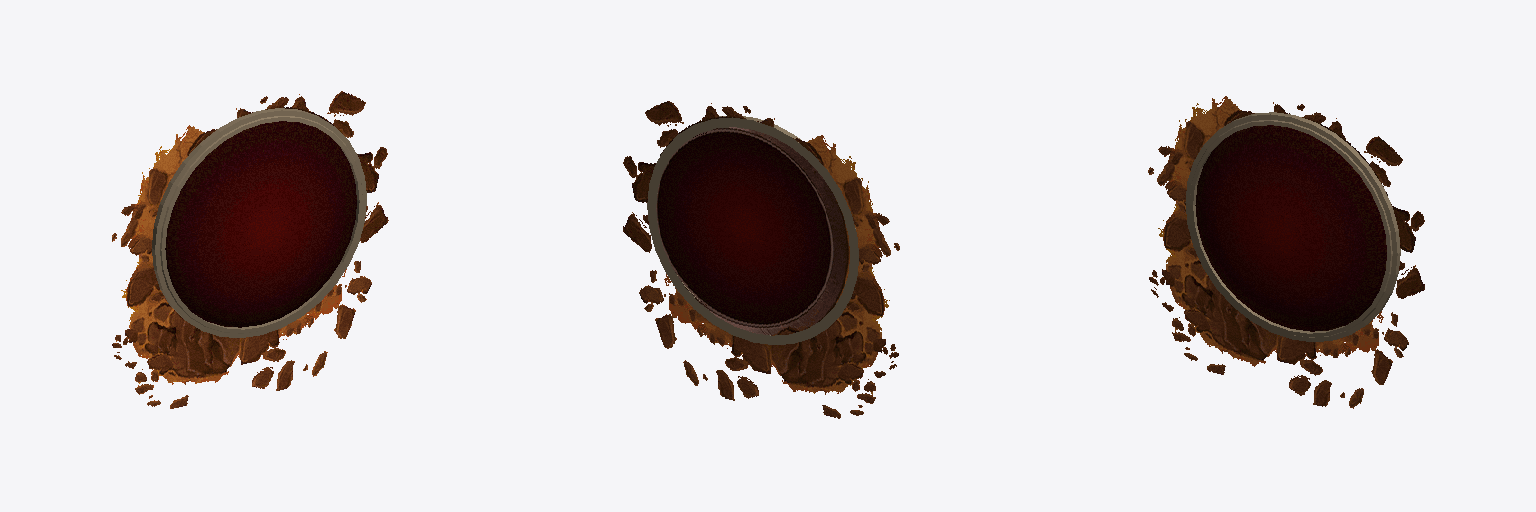
3 views of the same model, side by side, from view 1: azimuth 30°, elevation 25°; view 2: azimuth 150°, elevation 25°; view 3: azimuth 330°, elevation 25° (orthographic).
Parts seen in each view (by area): view 1: ground; view 2: ground; view 3: ground.
Part boxes in pixels (x1,y1,x2,y2): ground: (112, 91, 388, 408); ground: (623, 101, 899, 418); ground: (1148, 96, 1424, 408).
Bounding box in the file's own units: 17.8 × 17.8 × 1.38.
3 materials, 1 textured.